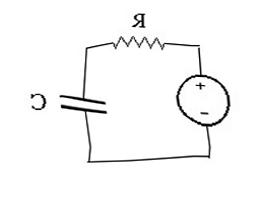Battery: (162, 65, 241, 132)
